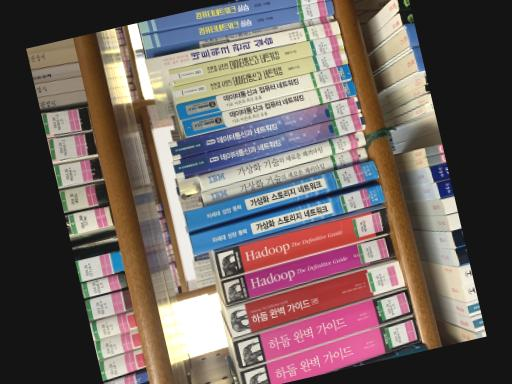book-spine: (232, 288, 413, 367), (189, 183, 384, 254), (226, 259, 404, 336), (183, 160, 379, 229), (171, 111, 366, 177), (239, 314, 420, 384), (214, 206, 390, 277), (220, 233, 395, 304), (167, 95, 361, 159), (144, 19, 339, 72), (198, 129, 366, 189), (181, 79, 356, 136), (175, 63, 352, 119), (200, 145, 367, 204), (172, 48, 348, 101), (141, 0, 333, 48), (168, 33, 344, 85), (138, 0, 318, 31)
